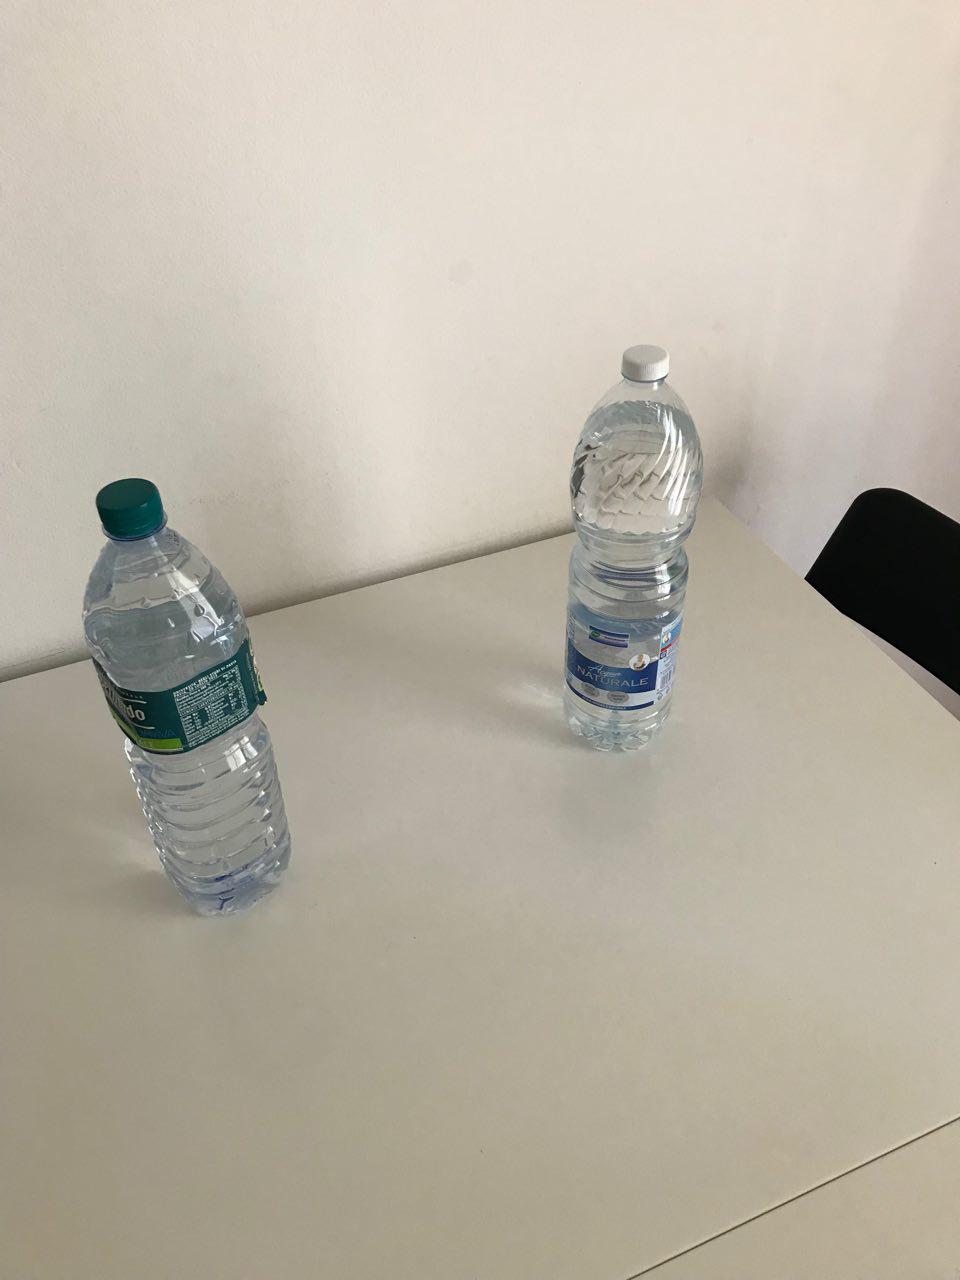san_bernardo: (80, 477, 293, 921)
